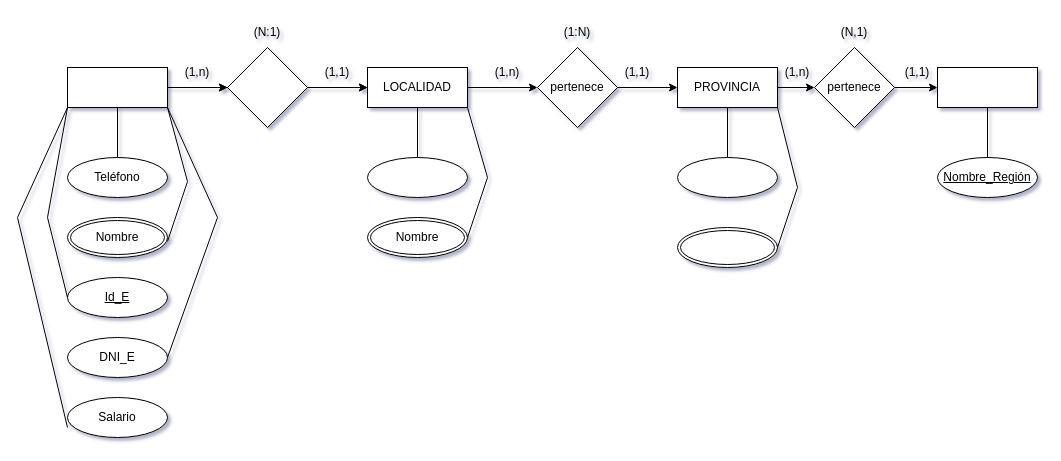
The diagram is 1061 pixels wide and 461 high, and some of its shapes have lost their labels. The centre of each missing label's shape, as x and y in pixels:
"Código_localidad" belongs at pixel 417 177.
"Código_provincia" belongs at pixel 727 177.
"EMPLEADO" belongs at pixel 117 87.
"Nombre_provincia" belongs at pixel 727 247.
"REGIÓN" belongs at pixel 987 87.
"vive" belongs at pixel 267 87.
